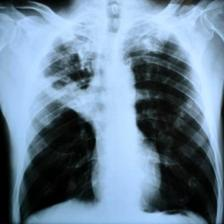tuberculosis: (14, 16, 224, 224)
